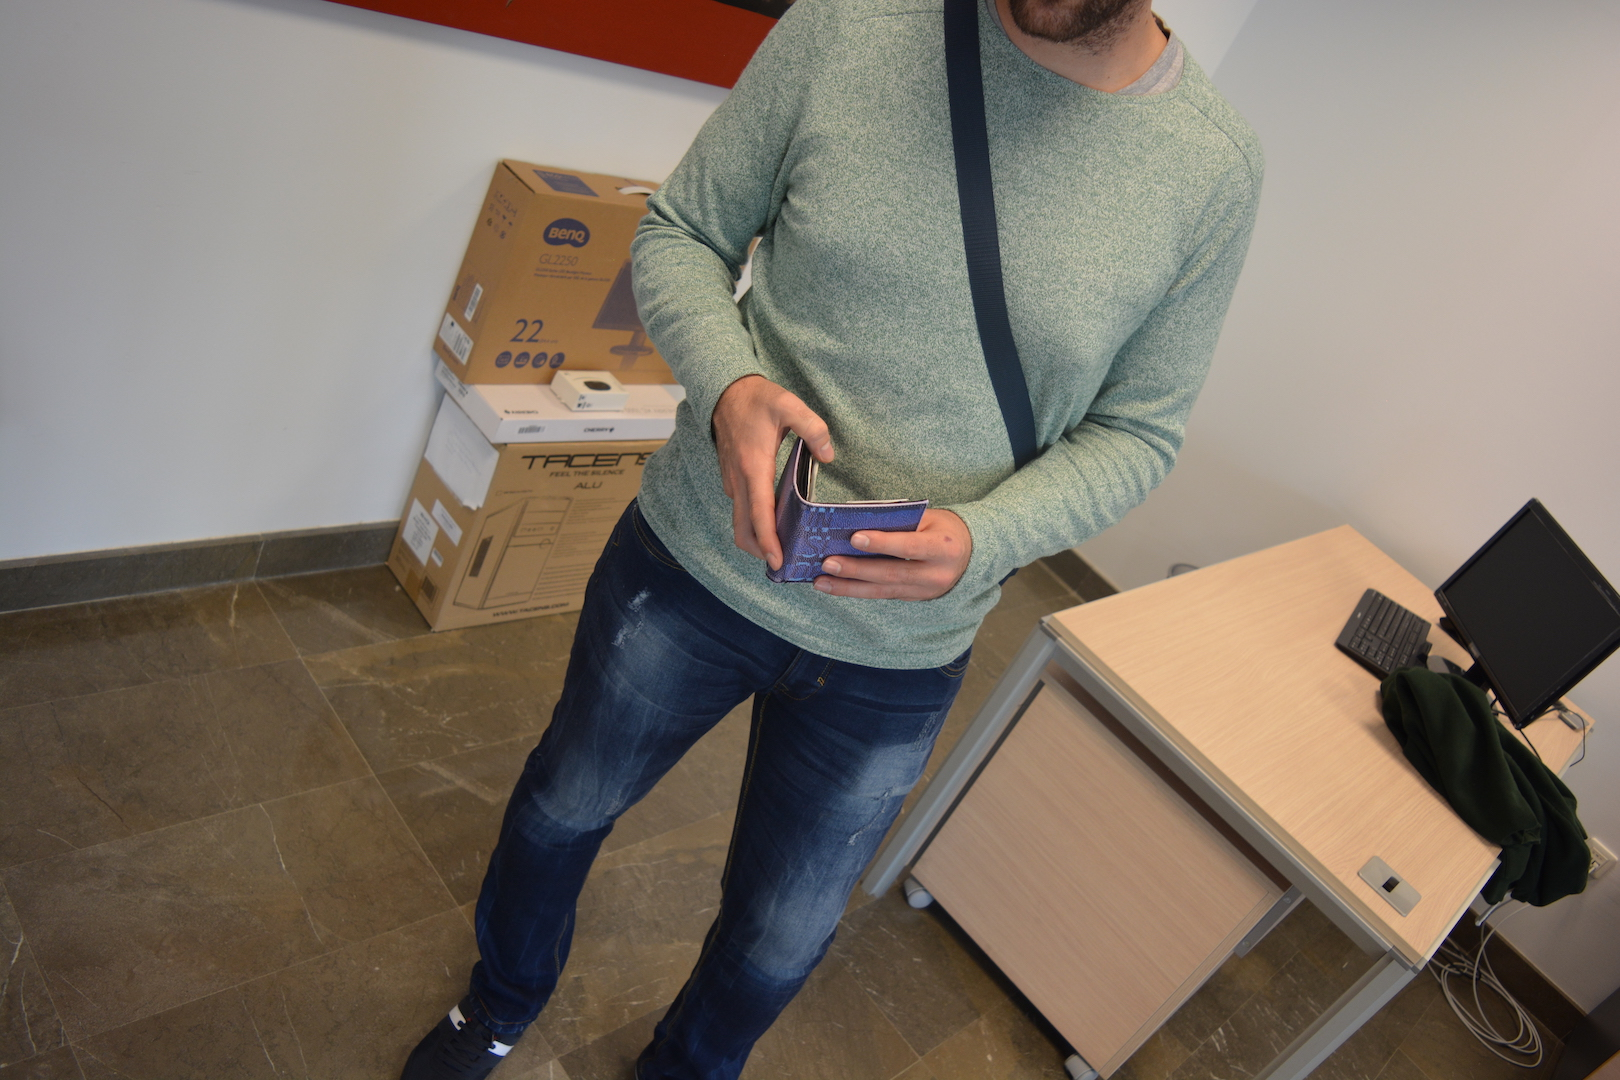monedero: (765, 435, 931, 586)
